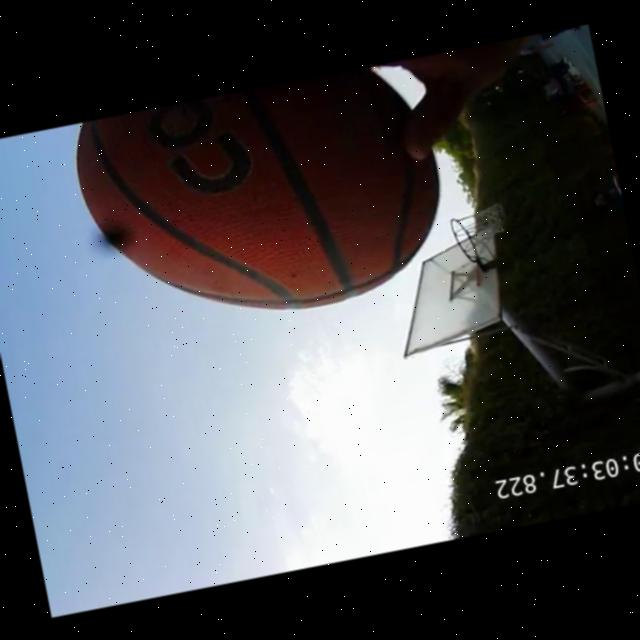ball: (66, 55, 460, 348)
hoop: (448, 208, 487, 270)
